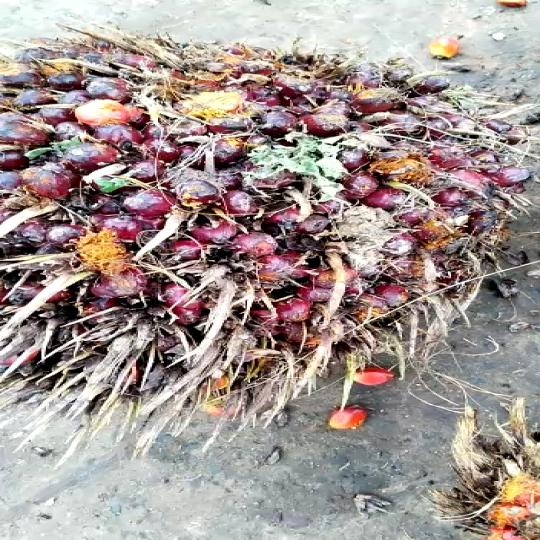masak: (0, 14, 540, 403)
